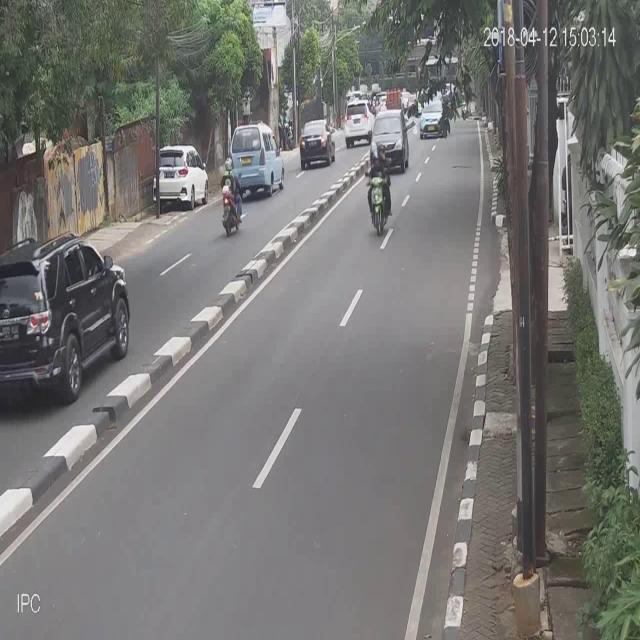bus: (363, 147, 392, 237), (218, 156, 244, 238)
motorcycle: (0, 232, 130, 404), (230, 120, 288, 194), (152, 140, 210, 213), (299, 116, 335, 170)
